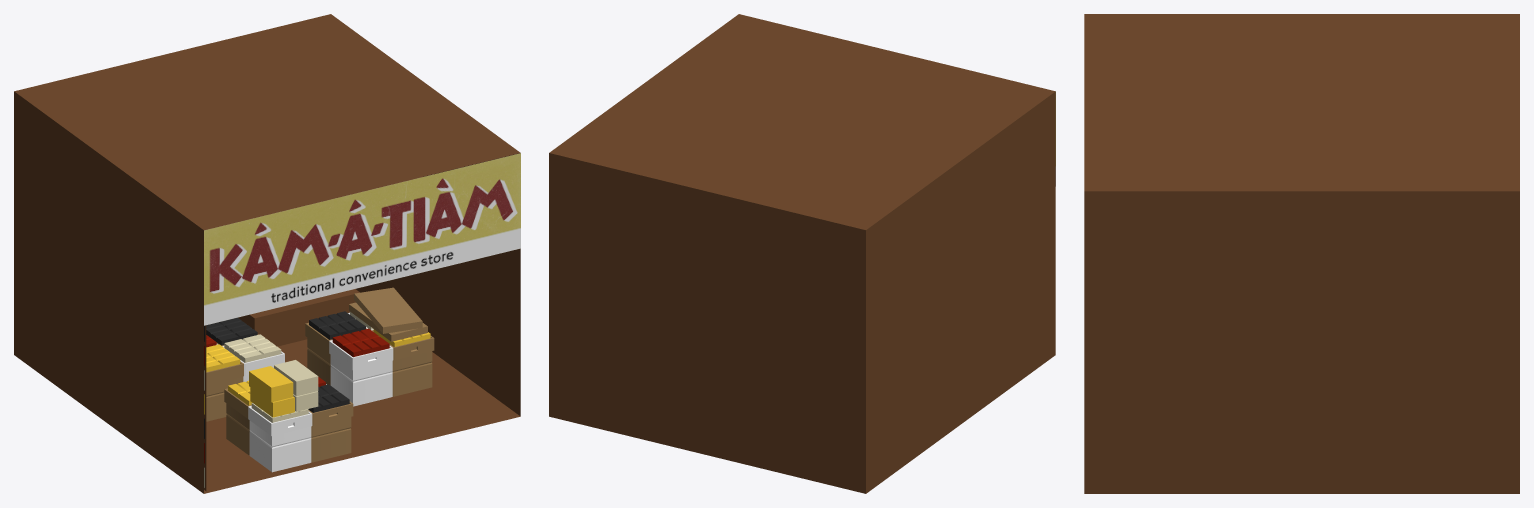
3 renders of one model, left to right at view 1: azimuth 30°, elevation 25°; view 2: azimuth 150°, elevation 25°; view 3: azimuth 270°, elevation 25°, orthographic. The views are drawn at different scales.
Visible parts, largest first — view 1: house, sign, till, Cube_7_12, cardboardbox_23, cardboardbox_13, cardboardbox_19, cardboardbox_9, Cube_5_12, cardboardbox_14, cardboardbox_24, cardboardbox_20 (+14 smaller); view 2: house; view 3: house.
Part boxes in pixels (x1,y1,x2,y2): house: [14, 14, 520, 493]; sign: [204, 153, 520, 325]; till: [238, 289, 359, 346]; Cube_7_12: [354, 287, 422, 333]; cardboardbox_23: [248, 405, 312, 447]; cardboardbox_13: [329, 340, 393, 381]; cardboardbox_19: [249, 431, 311, 472]; cardboardbox_9: [330, 365, 392, 406]; Cube_5_12: [249, 366, 293, 402]; cardboardbox_14: [371, 330, 434, 371]; cardboardbox_24: [308, 401, 353, 437]; cardboardbox_20: [311, 428, 351, 462]; house: [549, 14, 1055, 493]; house: [1084, 14, 1519, 493].
Size of the model in its own units: 2640 by 2108 by 2740.
Materials: 11 (1 with a texture image).
